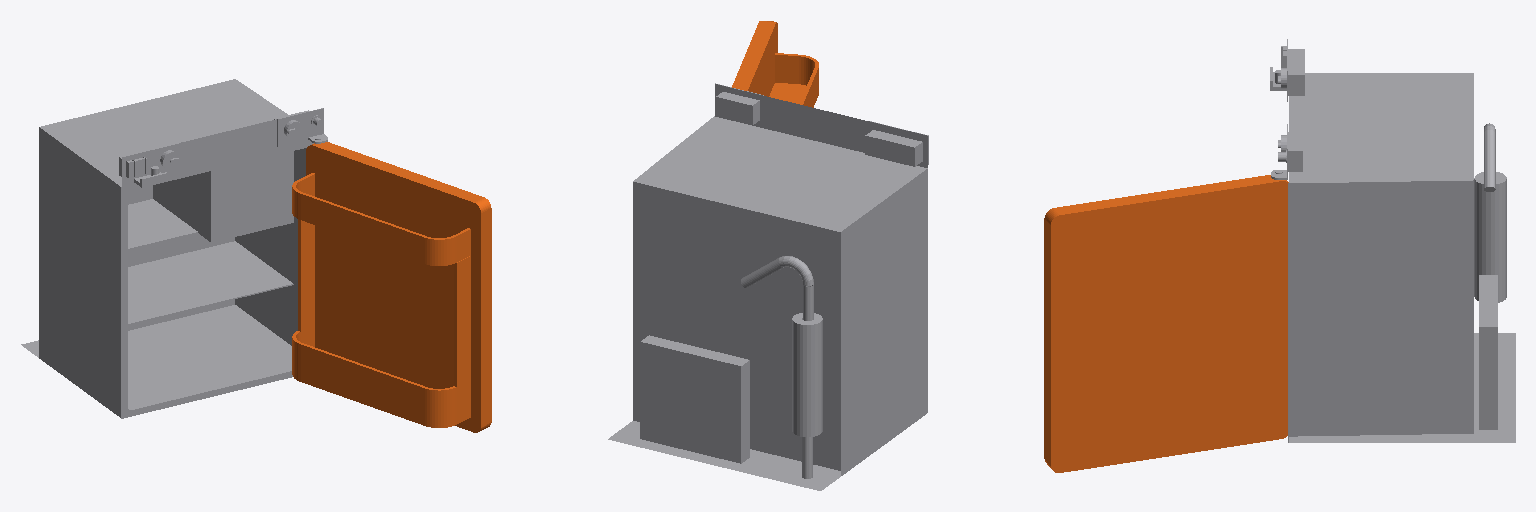
robot.urdf — fridge_10905:
<?xml version="1.0"?>
<robot name="fridge_10905">
  <!-- Meshes come from the dataset *_rotate exports, which share the joint frame. -->
  <link name="base_link">
    <visual>
      <origin xyz="0 0 0" rpy="0 0 0"/>
      <geometry>
        <mesh filename="meshes/fridge_10905_base.obj"/>
      </geometry>
      <material name="steel_grey">
        <color rgba="0.70 0.70 0.72 1.0"/>
      </material>
    </visual>
    <collision>
      <origin xyz="0 0 0" rpy="0 0 0"/>
      <geometry>
        <mesh filename="meshes/fridge_10905_base.obj"/>
      </geometry>
    </collision>
    <inertial>
      <origin xyz="-0.208745888 0.060478890 0.337681070" rpy="0 0 0"/>
      <mass value="0.079071207"/>
      <inertia ixx="0.008986122" ixy="0.000000000" ixz="0.000000000" iyy="0.009418131" iyz="0.000000000" izz="0.006990863"/>
    </inertial>
  </link>

  <link name="moving_link">
    <visual>
      <origin xyz="0 0 0" rpy="0 0 0"/>
      <geometry>
        <mesh filename="meshes/fridge_10905_moving.obj"/>
      </geometry>
      <material name="handle_orange">
        <color rgba="0.93 0.47 0.16 1.0"/>
      </material>
    </visual>
    <collision>
      <origin xyz="0 0 0" rpy="0 0 0"/>
      <geometry>
        <mesh filename="meshes/fridge_10905_moving.obj"/>
      </geometry>
    </collision>
    <inertial>
      <origin xyz="0.031502286 -0.347278698 -0.420059775" rpy="0 0 0"/>
      <mass value="0.020928793"/>
      <inertia ixx="0.002041749" ixy="0.000000000" ixz="0.000000000" iyy="0.001456835" iyz="0.000000000" izz="0.001169028"/>
    </inertial>
  </link>

  <joint name="scissor_hinge" type="revolute">
    <origin xyz="0.226917667 -0.166912436 0.456948000" rpy="0 0 0"/>
    <parent link="base_link"/>
    <child link="moving_link"/>
    <axis xyz="0.000000000 0.000000000 1.000000000"/>
    <limit lower="-1.047197551" upper="0.000000000" effort="5.0" velocity="4.0"/>
    <dynamics damping="0.05" friction="0.02"/>
  </joint>
</robot>

--- Facts derived from the render (not from the file) ---
Views: 3 orthographic renders of the robot side by side, from view 1: azimuth 30°, elevation 25°; view 2: azimuth 150°, elevation 25°; view 3: azimuth 270°, elevation 25°.
Model fridge_10905 with 2 links and 1 joints (1 revolute), rooted at base_link, posed every joint at zero.
Links seen in each view (by area): view 1: base_link, moving_link; view 2: base_link, moving_link; view 3: base_link, moving_link.
Boxes of the visible links, box(x1,y1,x2,y2) form: base_link: box(21, 79, 327, 418); moving_link: box(292, 142, 491, 432); base_link: box(608, 83, 928, 490); moving_link: box(732, 21, 818, 107); base_link: box(1270, 39, 1515, 442); moving_link: box(1044, 175, 1288, 472).
Size in the robot's own frame: 0.9811 by 1.35 by 0.9306 metres.
2 mesh visuals loaded from 2 distinct referenced files (2 OBJ).
